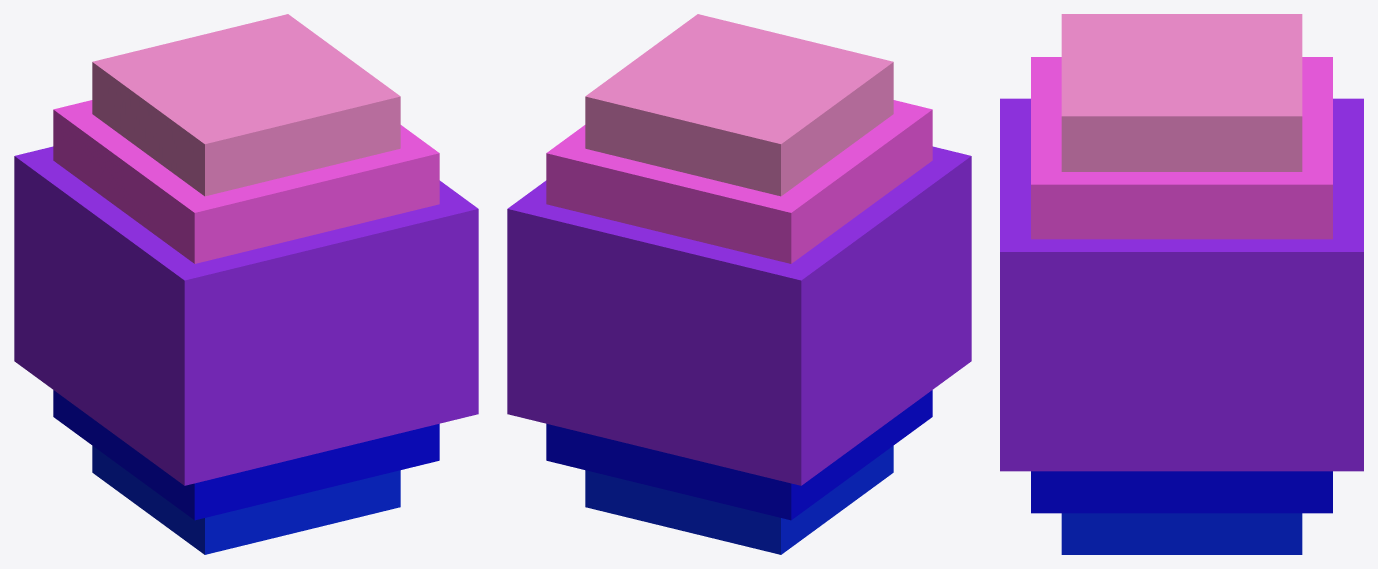
The model's file is egg_super_rare.obj.
The picture shows the model from 3 angles, left to right: view 1: azimuth 30°, elevation 25°; view 2: azimuth 150°, elevation 25°; view 3: azimuth 270°, elevation 25°; orthographic projection. The views are drawn at different scales.
Parts seen in each view (by area): view 1: E3, E1U, E2U, E2D, E1D; view 2: E3, E1U, E2U, E2D, E1D; view 3: E3, E1U, E2U, E2D, E1D.
Boxes of the visible parts, left/top/right/bottom form: E3: left=14, top=146, right=478, bottom=485; E1U: left=92, top=14, right=400, bottom=196; E2U: left=53, top=100, right=439, bottom=263; E2D: left=53, top=390, right=439, bottom=520; E1D: left=92, top=446, right=400, bottom=554; E3: left=507, top=146, right=971, bottom=485; E1U: left=585, top=14, right=893, bottom=196; E2U: left=546, top=100, right=932, bottom=263; E2D: left=546, top=390, right=932, bottom=520; E1D: left=585, top=446, right=893, bottom=554; E3: left=1000, top=98, right=1363, bottom=471; E1U: left=1061, top=14, right=1302, bottom=171; E2U: left=1031, top=57, right=1332, bottom=239; E2D: left=1031, top=471, right=1332, bottom=513; E1D: left=1061, top=513, right=1302, bottom=554.
Bounding box in the file's own units: 2.71 × 3.62 × 2.72.
